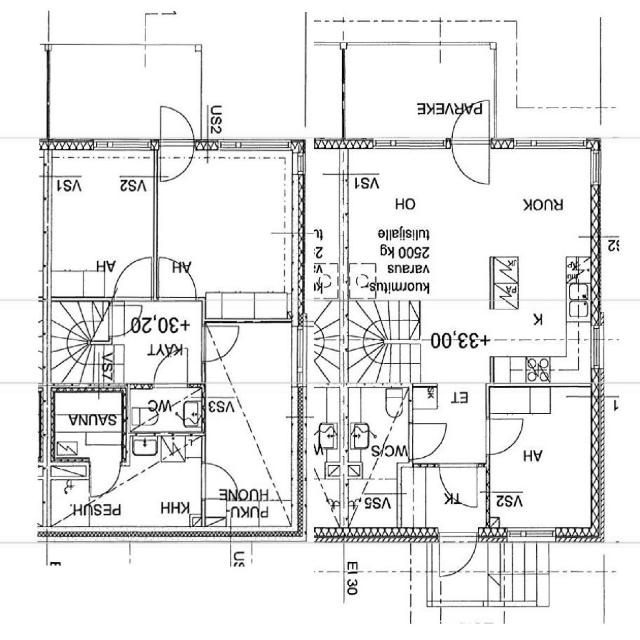door: (448, 102, 493, 188), (436, 460, 486, 512), (111, 251, 157, 303), (436, 533, 480, 579), (203, 317, 240, 368), (158, 260, 202, 302), (158, 101, 195, 149), (408, 420, 450, 462), (484, 414, 525, 456), (150, 349, 190, 389), (199, 458, 237, 498), (158, 142, 194, 183)
window: (34, 154, 57, 274), (50, 134, 156, 160), (367, 131, 449, 155), (506, 132, 590, 154), (212, 134, 289, 157), (94, 133, 155, 154), (292, 324, 308, 386), (588, 320, 606, 374), (588, 146, 605, 191), (0, 292, 40, 308)
zone: (156, 154, 296, 302), (44, 143, 158, 299), (487, 386, 597, 536), (202, 372, 297, 533), (110, 300, 205, 384), (330, 388, 411, 477), (598, 389, 640, 541), (409, 383, 489, 462), (50, 389, 126, 456), (125, 385, 202, 434), (46, 461, 91, 528)
